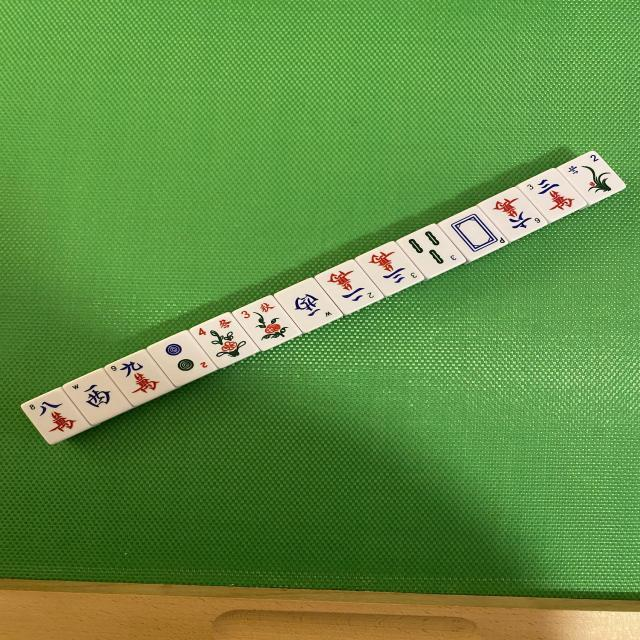bf2: (560, 151, 626, 208)
bs3: (235, 294, 302, 354)
bs4: (190, 312, 260, 372)
hdw: (440, 204, 508, 264)
hww: (64, 366, 132, 427), (276, 276, 344, 336)
sb3: (398, 222, 465, 282)
sc2: (316, 256, 384, 316)
sc3: (357, 240, 426, 300), (520, 166, 588, 224)
sc6: (480, 183, 549, 246)
sc8: (21, 388, 87, 448)
sc9: (106, 347, 176, 408)
sd2: (147, 330, 217, 390)
